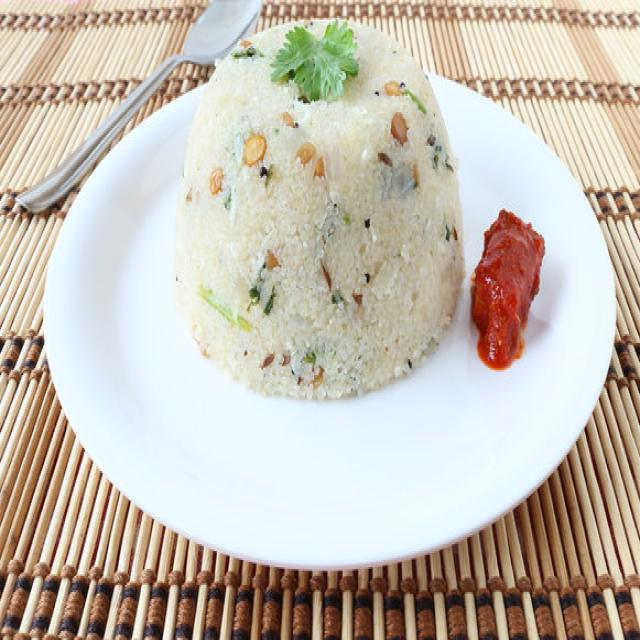UPMA: (174, 23, 464, 396)
